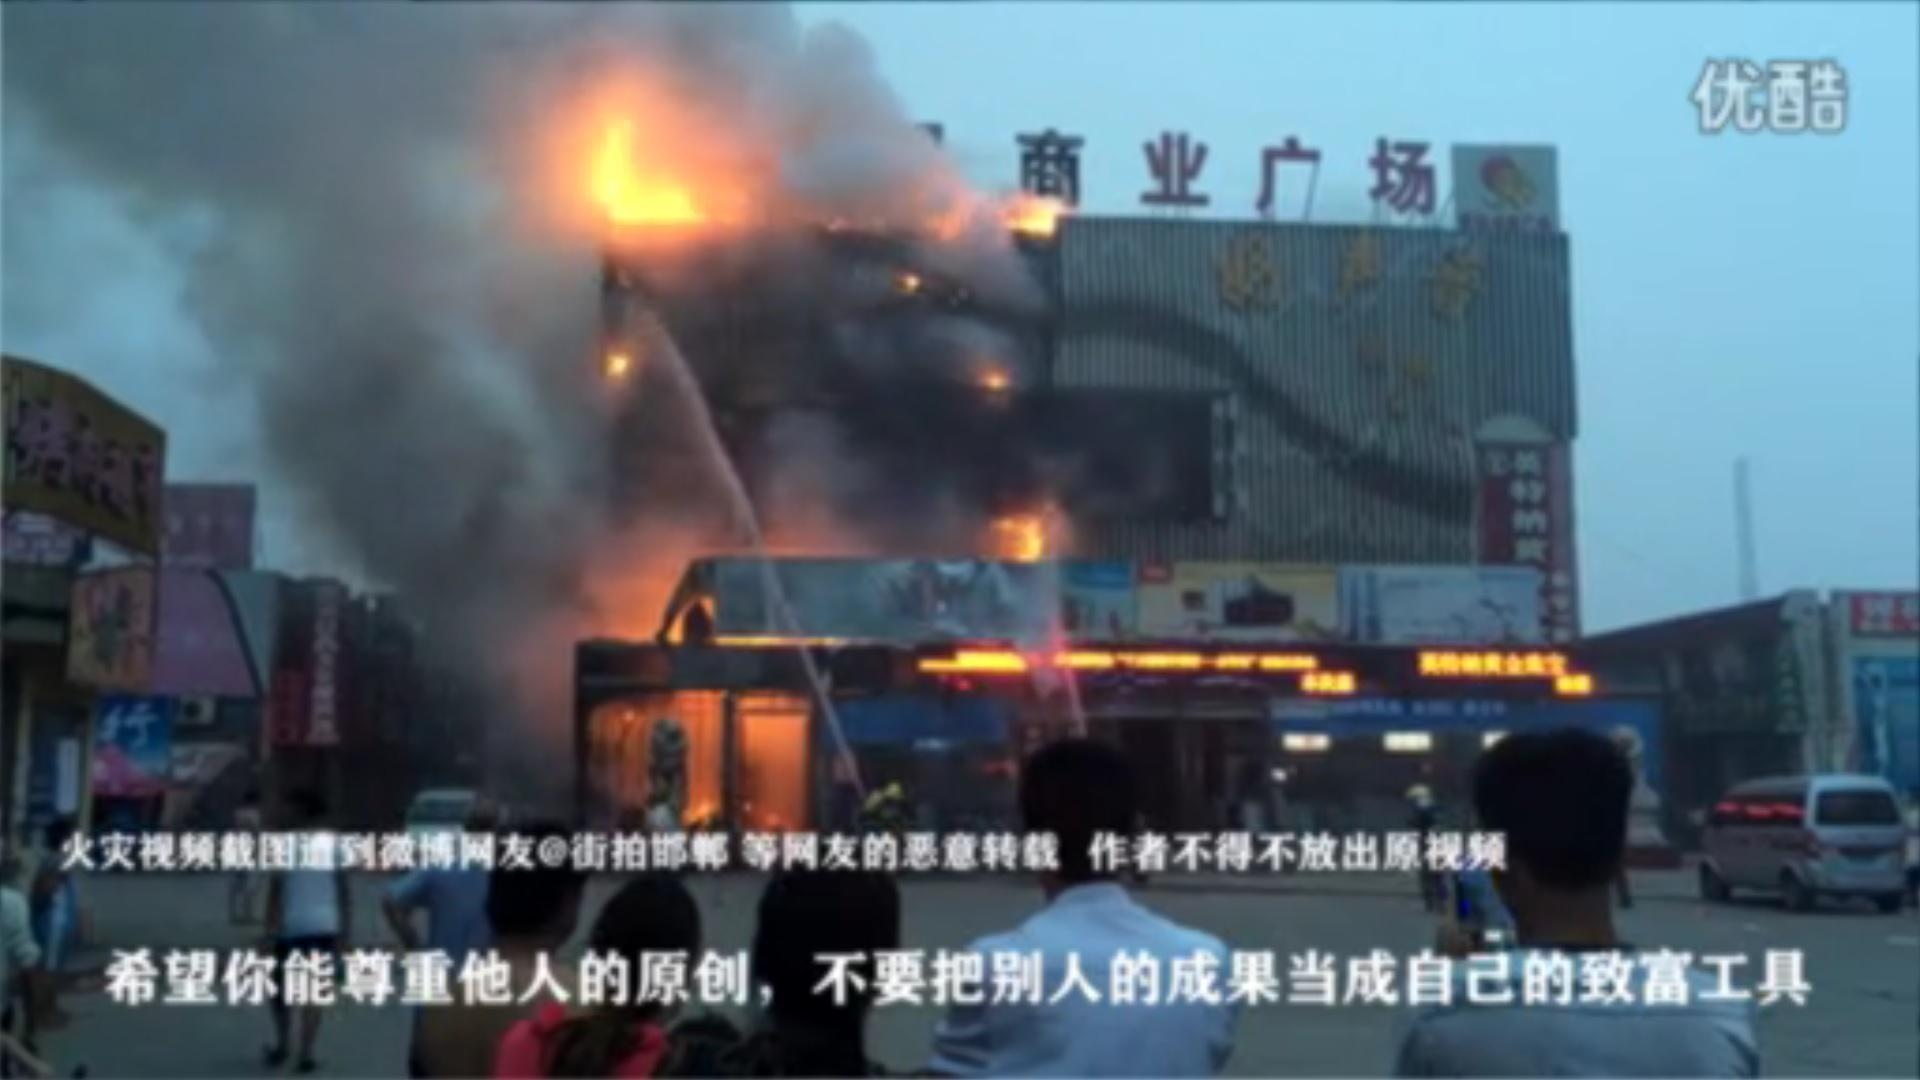fire: (579, 119, 699, 229), (1002, 190, 1063, 237)
